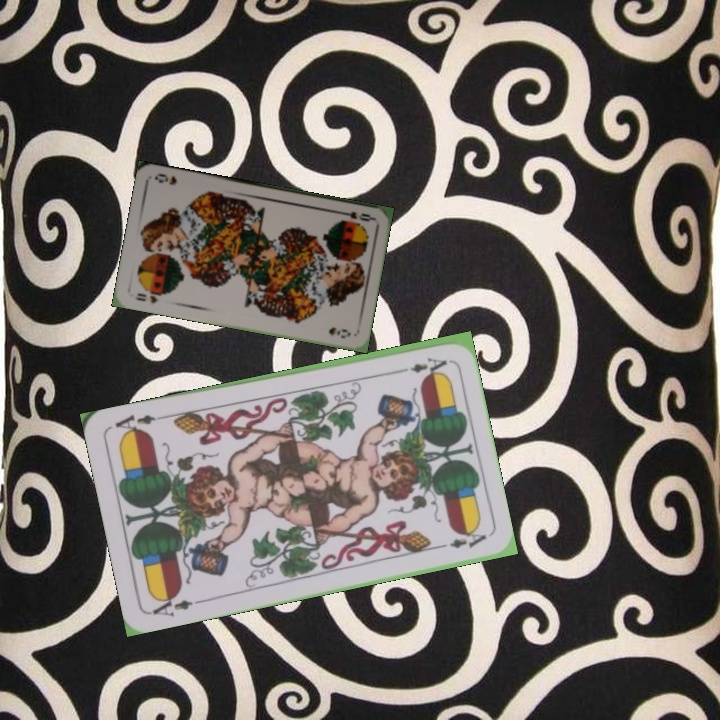EA: (147, 590, 205, 619), (392, 353, 450, 377)
SO: (335, 207, 376, 224), (132, 288, 164, 306)
